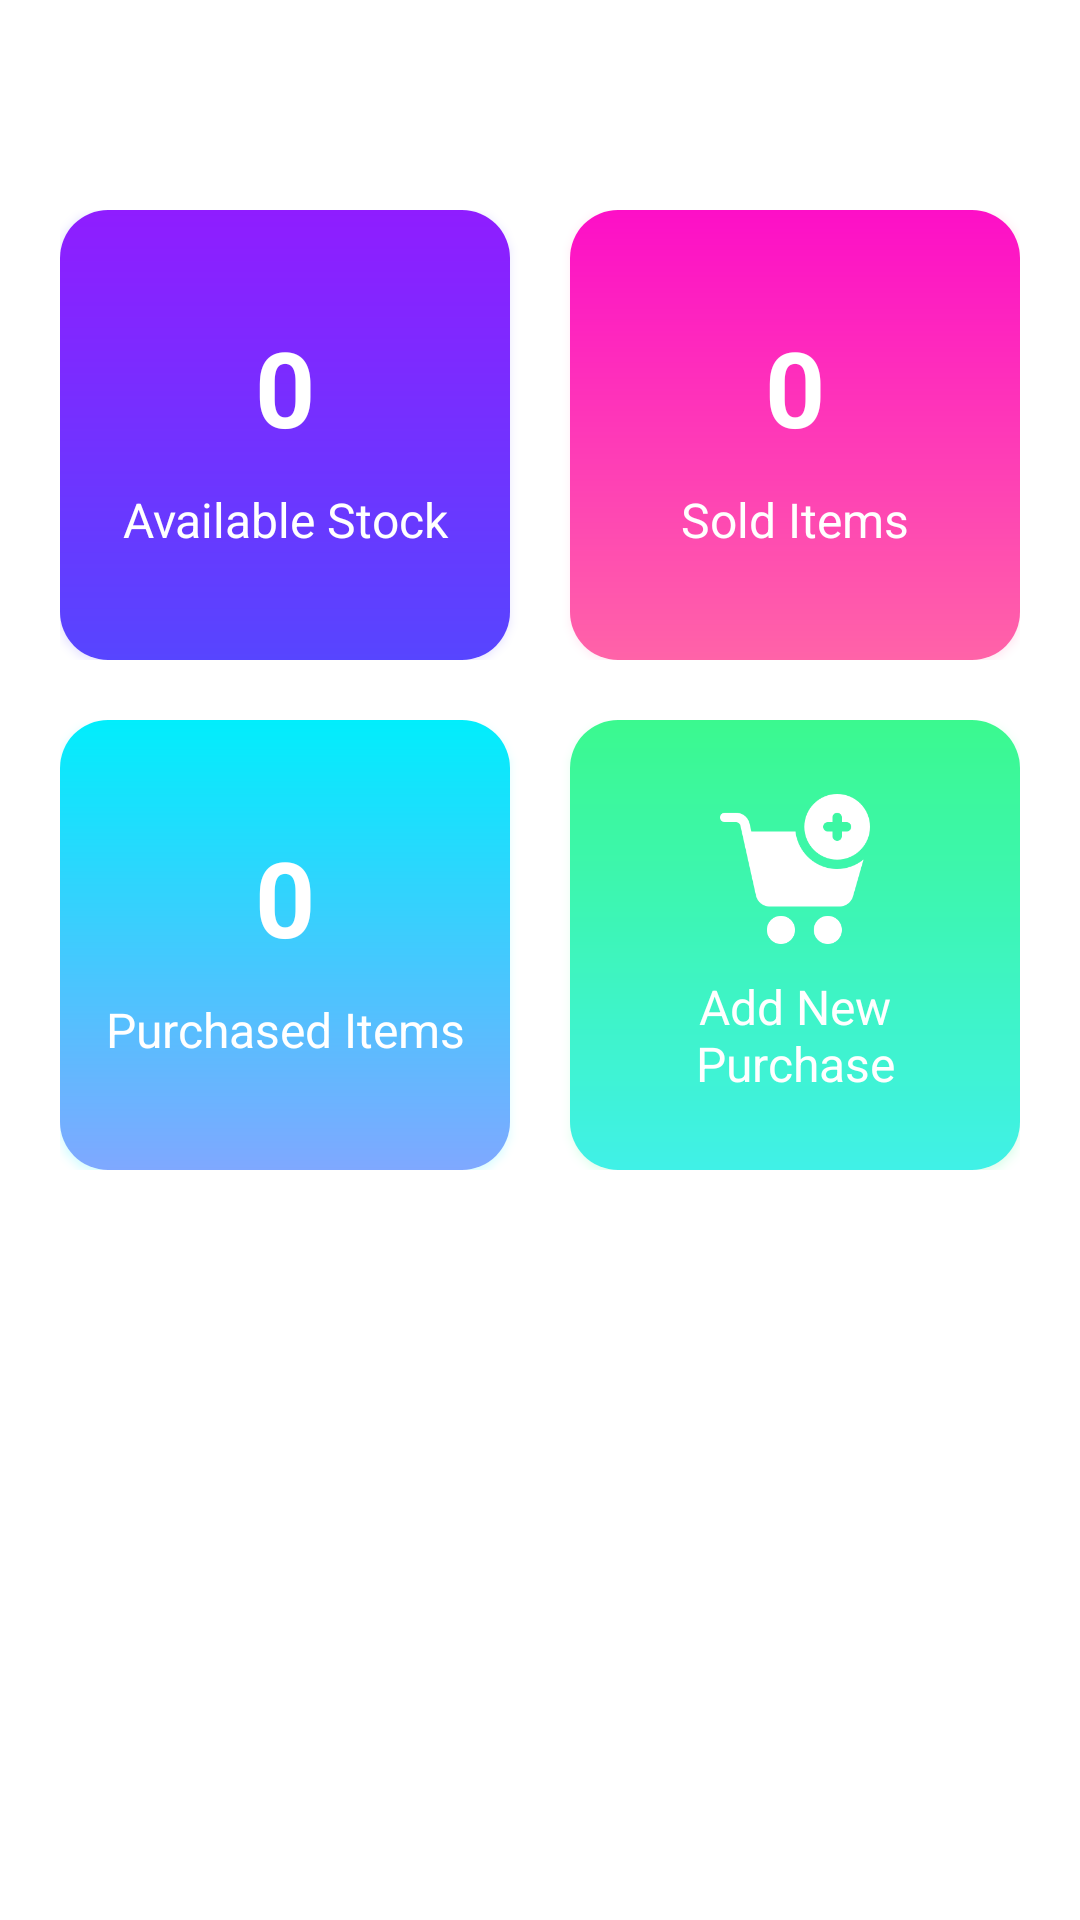

Named icons in this screenshot (1080px x 1920px) and their centers, point (x, y):
ecommerce: point (795, 869)
